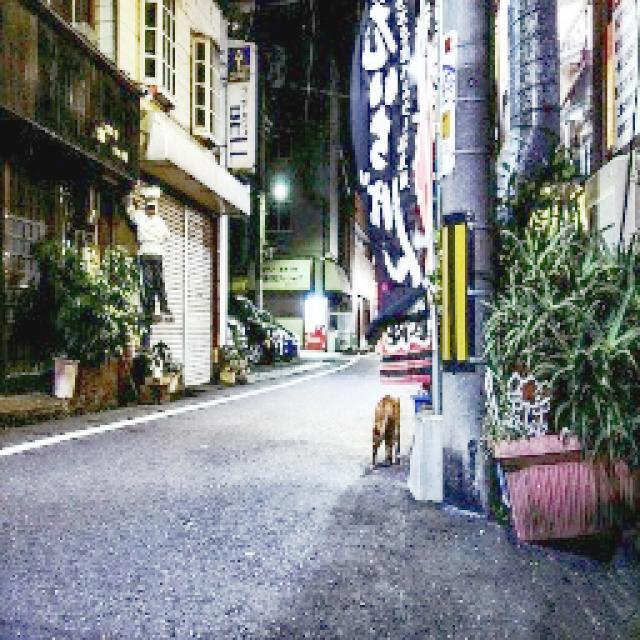cat: (352, 387, 412, 471)
